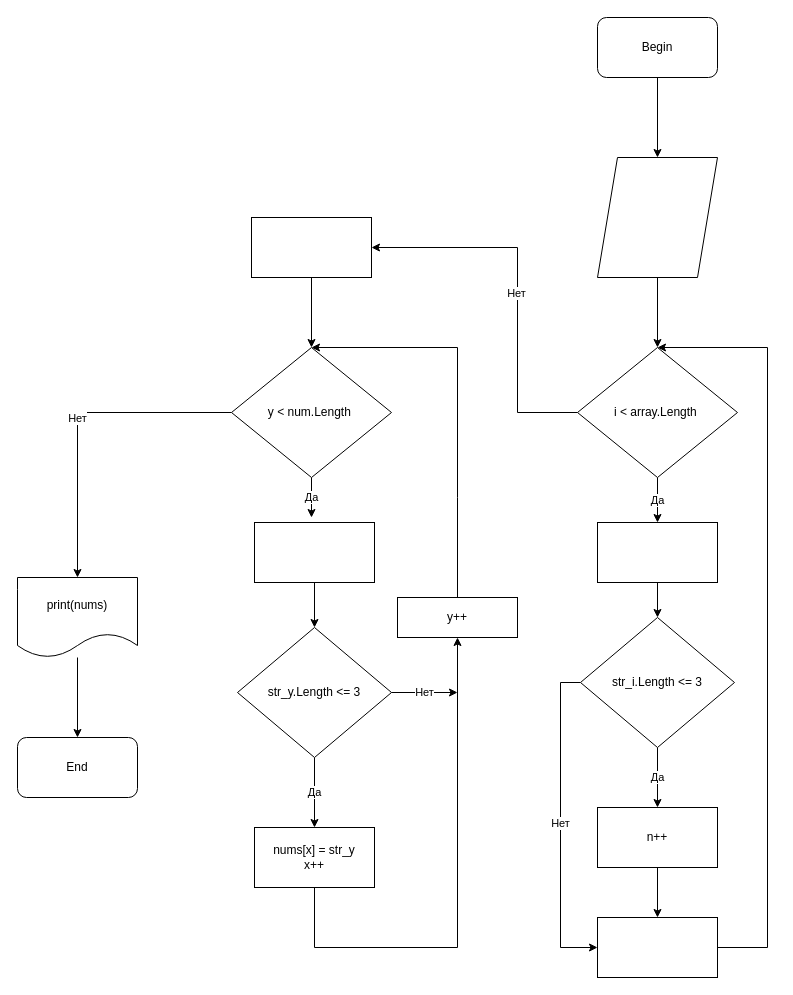
Some shapes in this 793 by 995 pixel diagram are drawn without their labels. Here are the shapes that lost their labels. From the top down, the centre of each, then its label:
(657,217): Ввод массива array n= 0 i = 0 y = 0 x = 0
(311,247): Создание массива num c количеством элементов n
(314,552): str_y = $"{array[y]}"
(657,552): str_i = $"{array[i]}"
(657,947): i++
